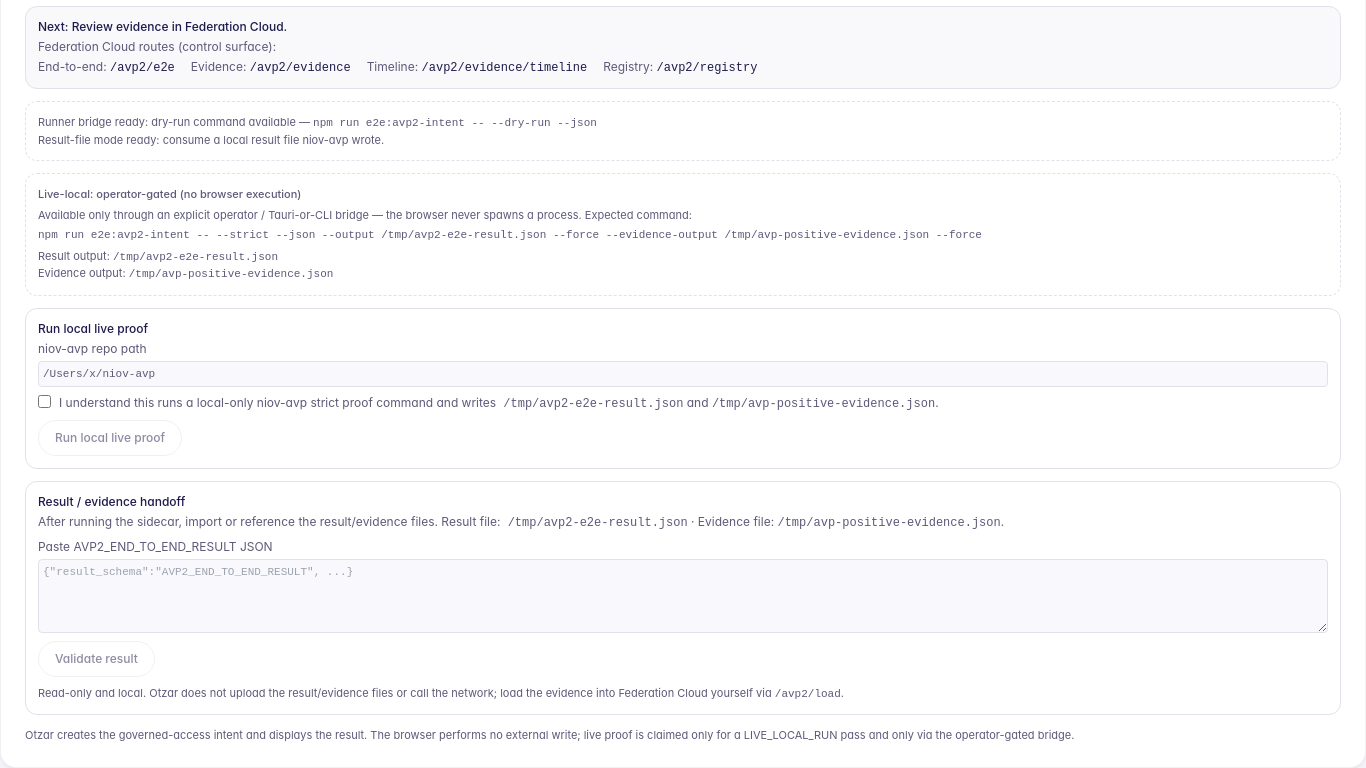
it: Avp2GovernedAccessCard › 11. a confirmed run maps a PASS result to the artifact + FC load note
(page scrolled)
Step 1. Click the checkbox with test id "avp2-run-confirm" → x=44, y=401, box [38,394,51,408]
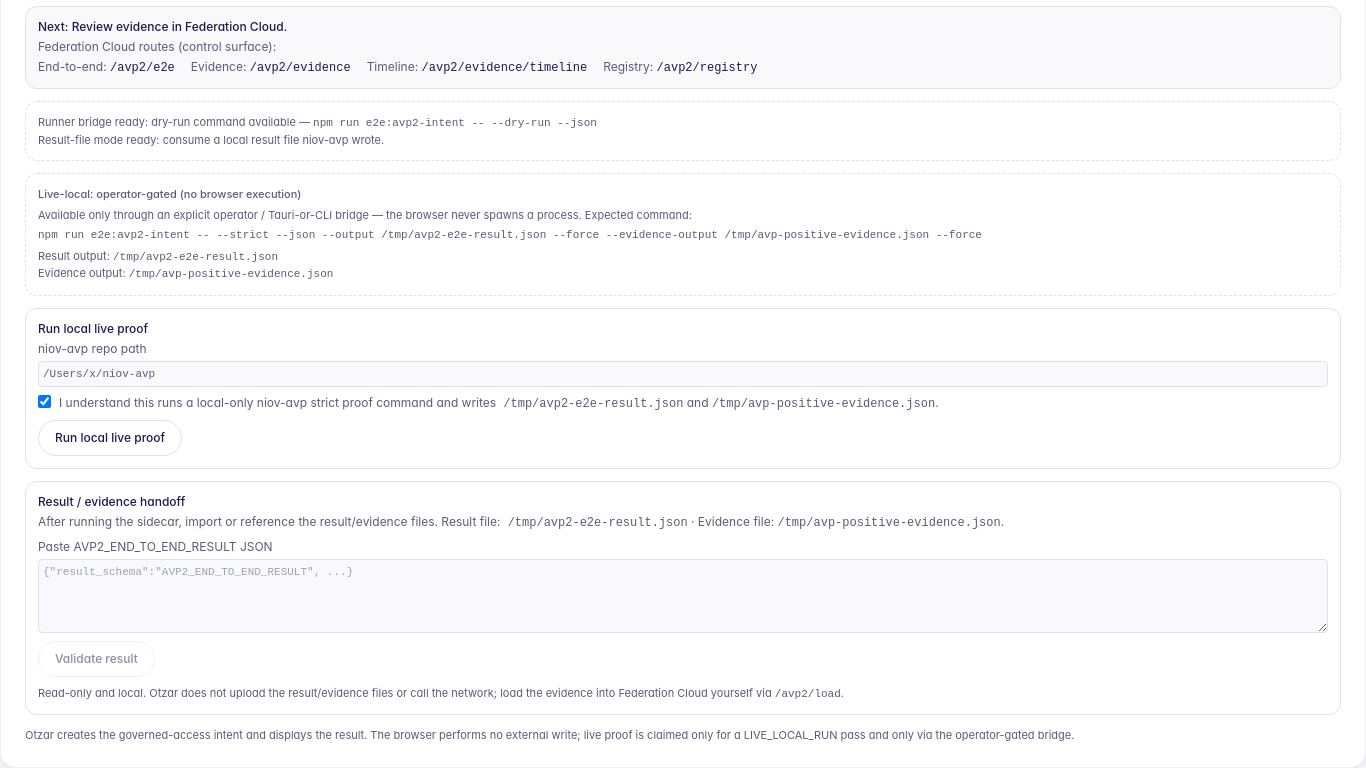
Step 2. Click the button with test id "avp2-run-button" → x=110, y=438, box [38,420,182,456]
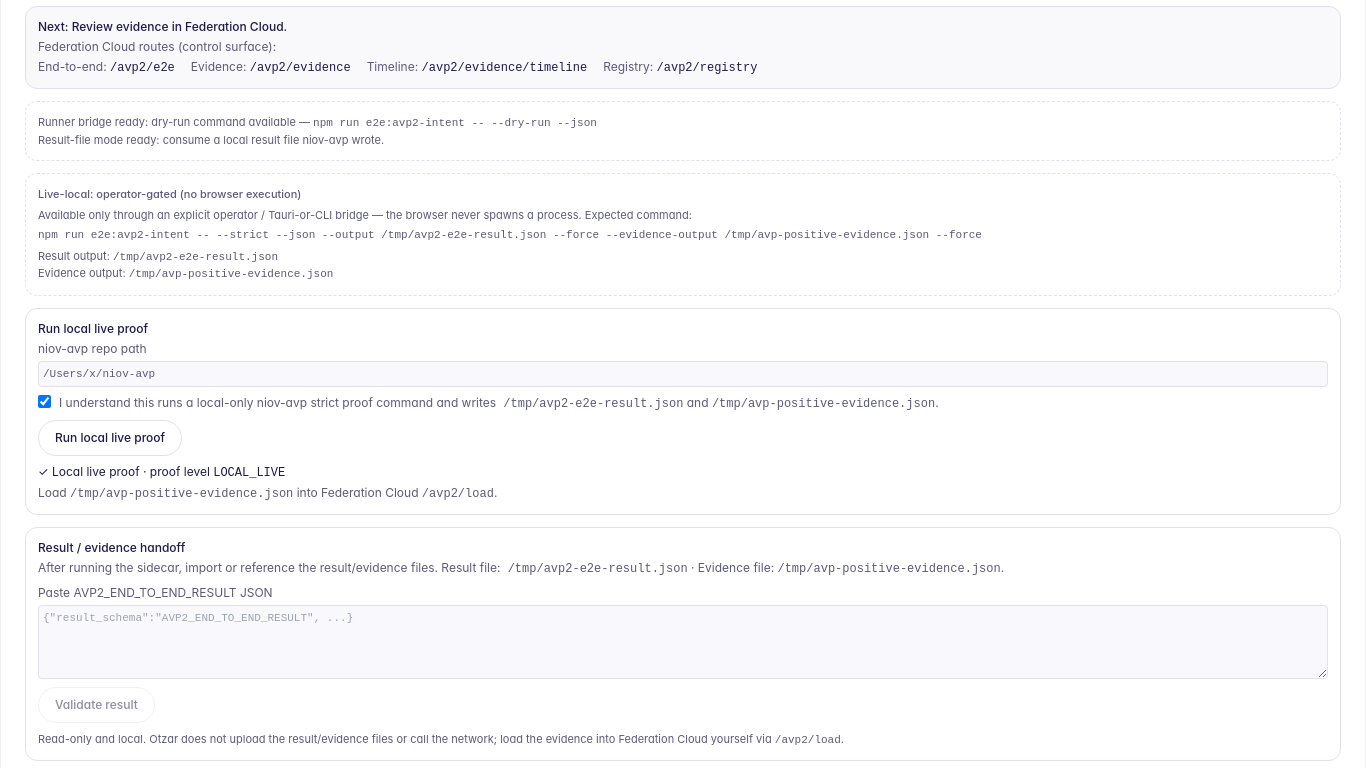
Expected: the element with test id "avp2-run-outcome" is shown, [38,464,497,500]
